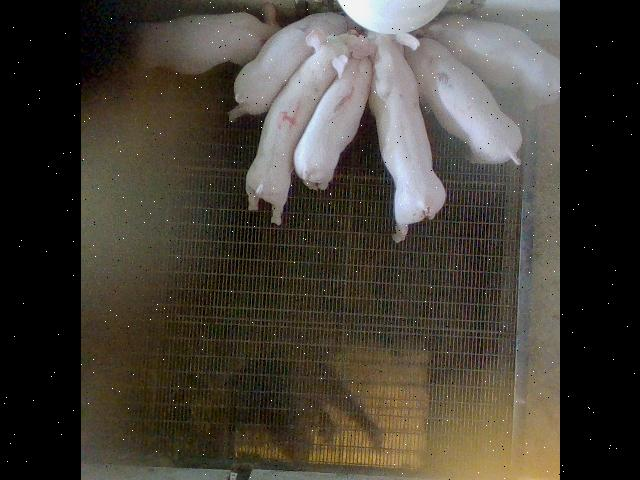pig-1: (292, 58, 371, 190)
pig-4: (245, 30, 348, 224)
